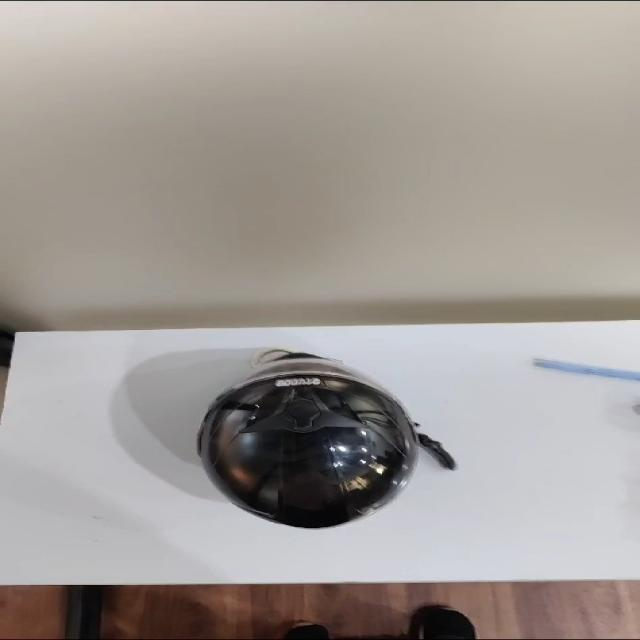helmet: (198, 350, 454, 528)
